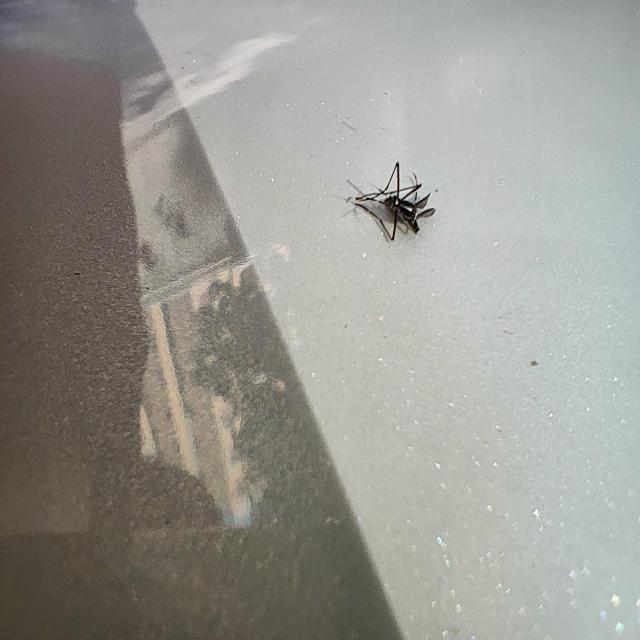albopictus: (342, 154, 440, 244)
